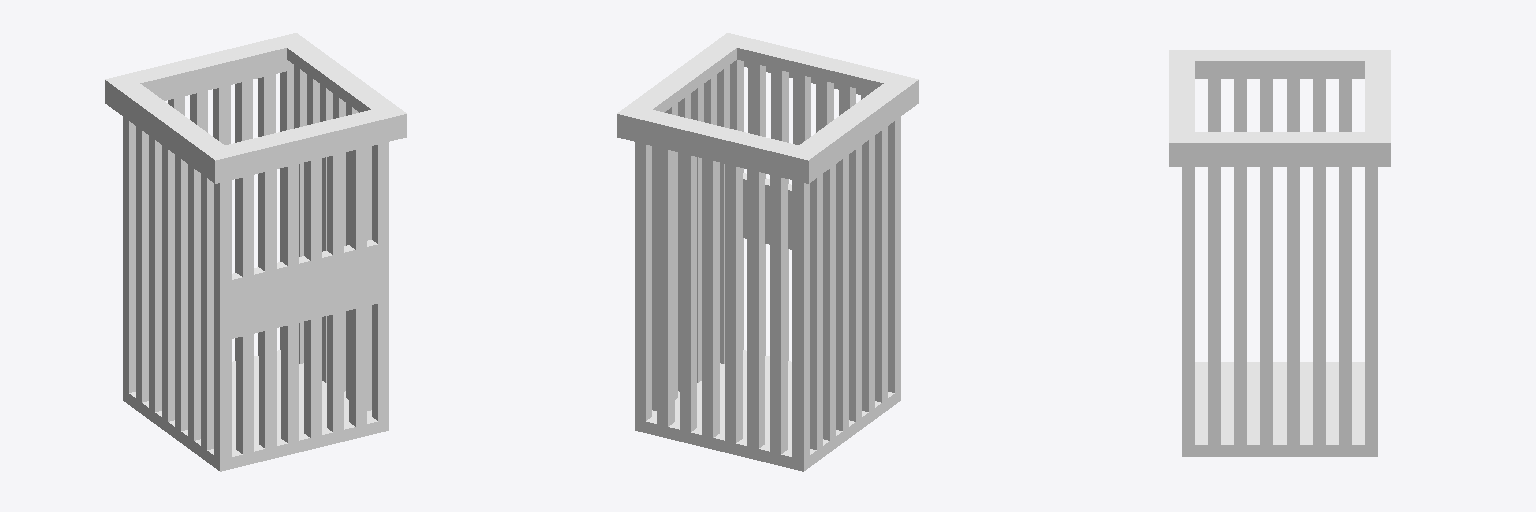
The model's file is rubbish_bin.obj.
The picture shows the model from 3 angles: view 1: azimuth 30°, elevation 25°; view 2: azimuth 150°, elevation 25°; view 3: azimuth 270°, elevation 25°; orthographic projection.
Parts seen in each view (by area): view 1: object 1; view 2: object 1; view 3: object 1.
Boxes of the visible parts, <box> form: object 1: <box>105,33,406,471</box>; object 1: <box>617,33,918,471</box>; object 1: <box>1169,50,1390,456</box>.
Size of the model in its own units: 1.7 by 2.7 by 1.7.